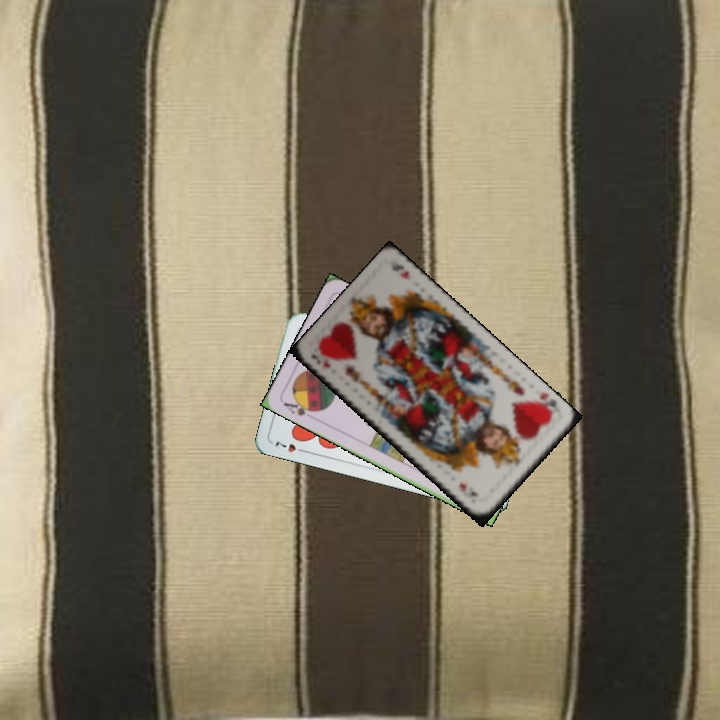H7: (271, 437, 309, 455)
HK: (529, 389, 559, 419), (306, 350, 333, 371)
SA: (279, 395, 320, 422)
